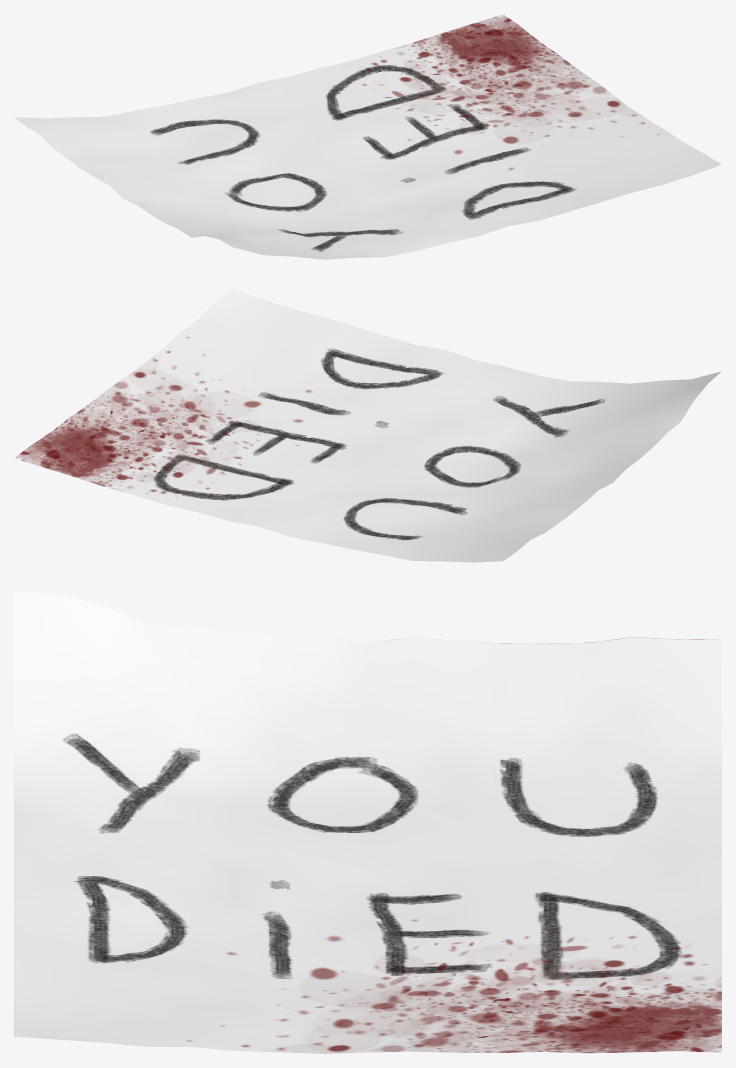
Rendered from game_over_note.gltf.
3 views of the same model, one above another, from view 1: azimuth 30°, elevation 25°; view 2: azimuth 150°, elevation 25°; view 3: azimuth 270°, elevation 25° (orthographic). The views are drawn at different scales.
Parts seen in each view (by area): view 1: Plane; view 2: Plane; view 3: Plane.
Part boxes in pixels (x1,y1,x2,y2): Plane: (14, 14, 721, 259); Plane: (14, 288, 721, 562); Plane: (14, 591, 721, 1053).
Size of the model in its own units: 0.31 by 0.0357 by 0.24.
Materials: 1 (1 with a texture image).
